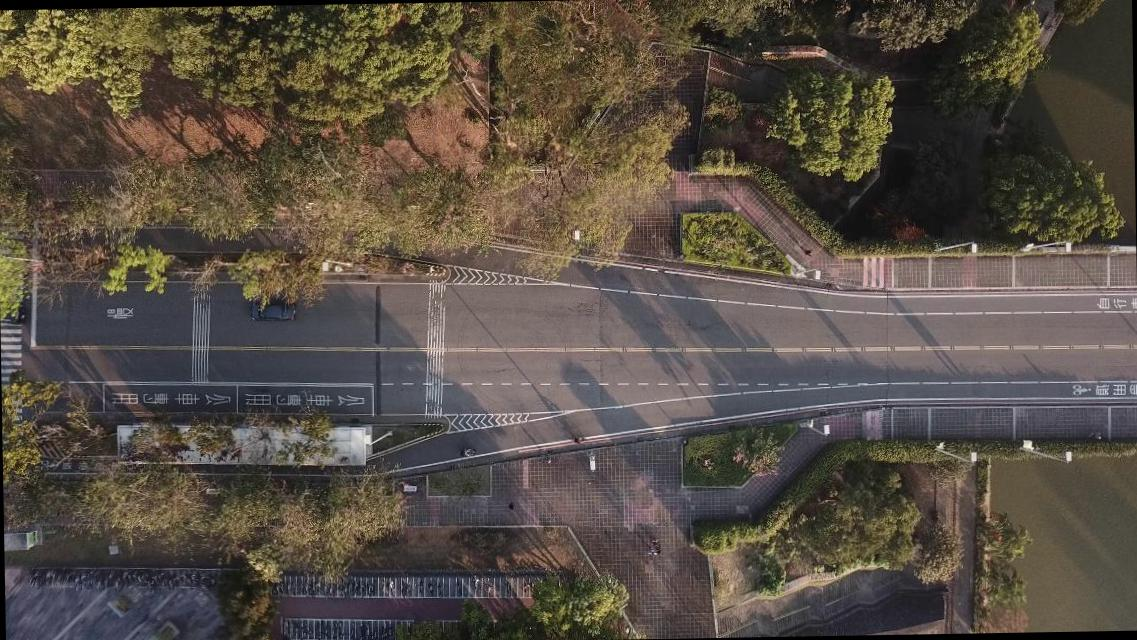vehicle: (251, 300, 297, 322), (1, 300, 26, 324)
